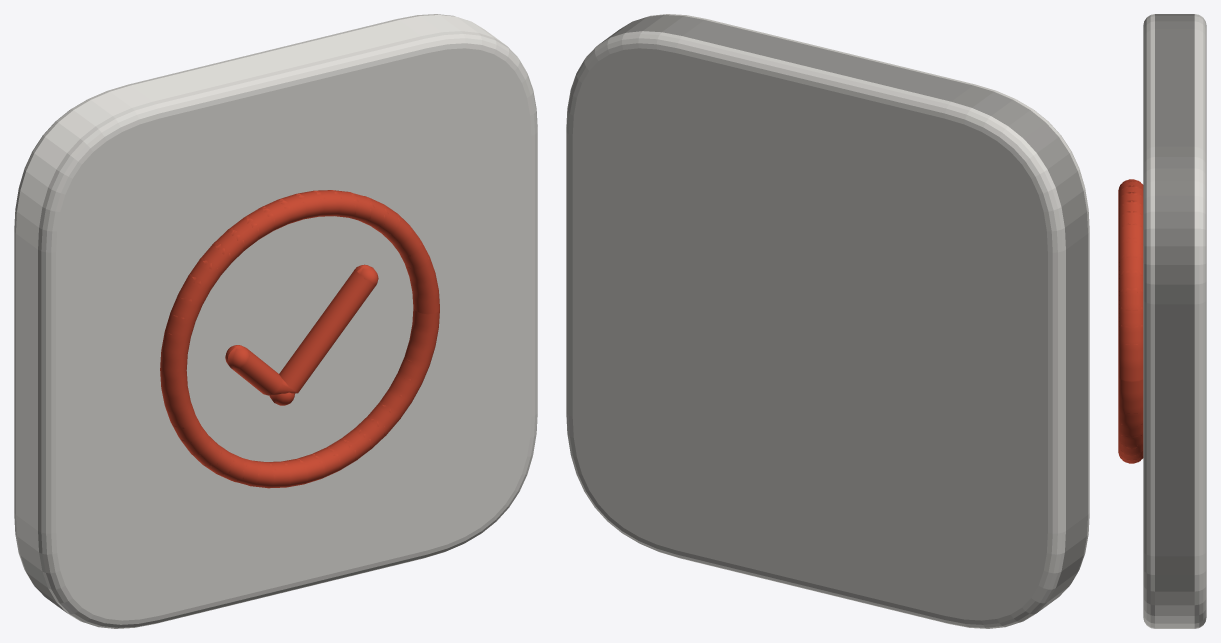
File: icon3d-check.glb
The picture shows the model from 3 angles, left to right: view 1: azimuth 30°, elevation 25°; view 2: azimuth 150°, elevation 25°; view 3: azimuth 270°, elevation 25°; orthographic projection. The views are drawn at different scales.
Visible parts, largest first — view 1: tile, stroke-0-0, stroke-1-0; view 2: tile; view 3: tile, stroke-0-0.
Part boxes in pixels (x1,y1,x2,y2): tile: (14,14,537,628); stroke-0-0: (160,190,439,488); stroke-1-0: (231,270,375,395); tile: (566,14,1089,628); tile: (1143,14,1206,628); stroke-0-0: (1118,179,1143,463).
Size of the model in its own units: 1.3 by 1.3 by 0.2229.
